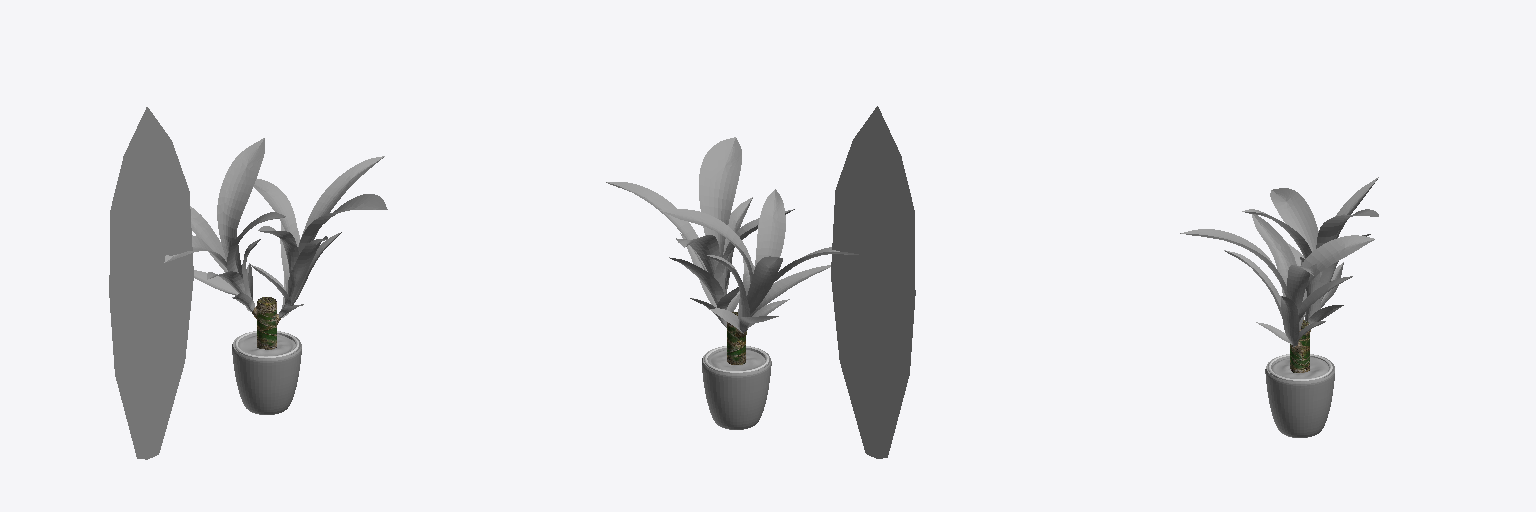
3 views of the same model, side by side, from view 1: azimuth 30°, elevation 25°; view 2: azimuth 150°, elevation 25°; view 3: azimuth 270°, elevation 25° (orthographic).
Parts seen in each view (by area): view 1: Plane_Plane.001, indoor_plant_02; view 2: Plane_Plane.001, indoor_plant_02; view 3: indoor_plant_02.
Part boxes in pixels (x1,y1,x2,y2): Plane_Plane.001: (109,107,193,459); indoor_plant_02: (164,138,387,414); Plane_Plane.001: (831,106,915,458); indoor_plant_02: (606,137,858,429); indoor_plant_02: (1180,177,1378,437).
Size of the model in its own units: 8.26 by 9.49 by 4.86.
Materials: 7 (1 with a texture image).